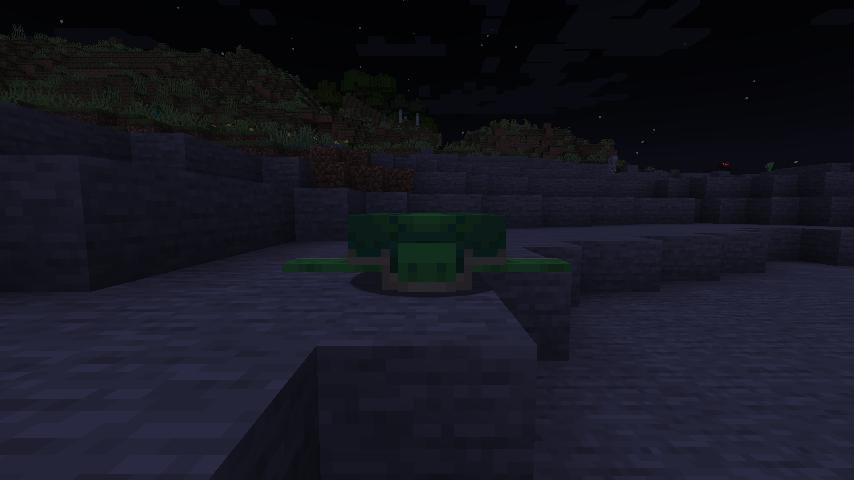creeper: (764, 161, 775, 172)
skeleton: (607, 154, 621, 175)
spider: (705, 160, 736, 173)
turtle: (283, 205, 577, 295)
